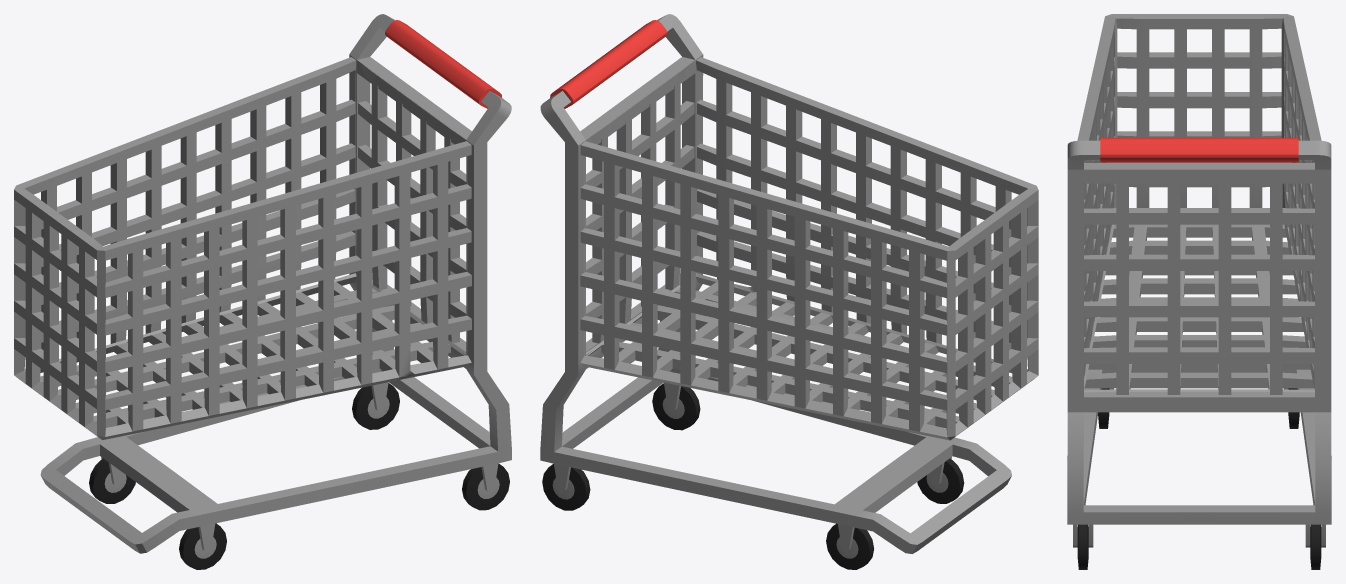
Rendered from shopping_cart.glb.
3 views of the same model, side by side, from view 1: azimuth 30°, elevation 25°; view 2: azimuth 150°, elevation 25°; view 3: azimuth 270°, elevation 25° (orthographic). The views are drawn at different scales.
Parts seen in each view (by area): view 1: Cube.1019; view 2: Cube.1019; view 3: Cube.1019.
Boxes of the visible parts, left/top/right/bottom form: Cube.1019: left=14, top=14, right=511, bottom=569; Cube.1019: left=540, top=14, right=1038, bottom=569; Cube.1019: left=1067, top=14, right=1331, bottom=569.
Bounding box in the file's own units: 1.91 × 1.87 × 1.03.
1 material, 1 textured.
